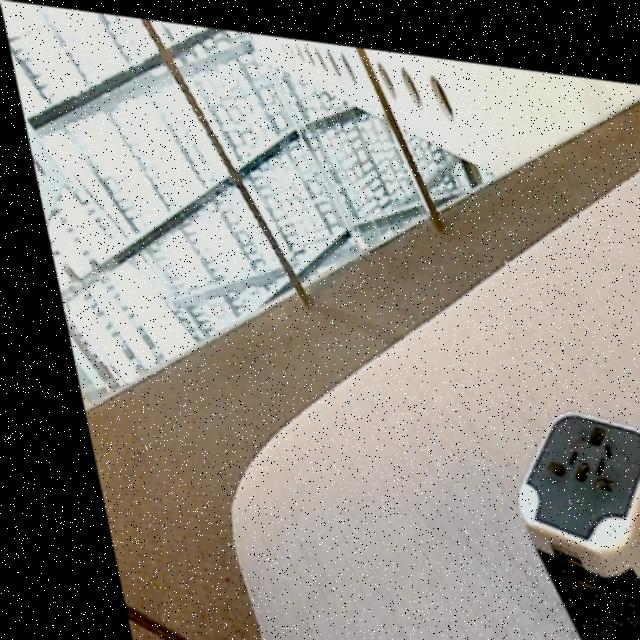adapter: (479, 385, 640, 640)
